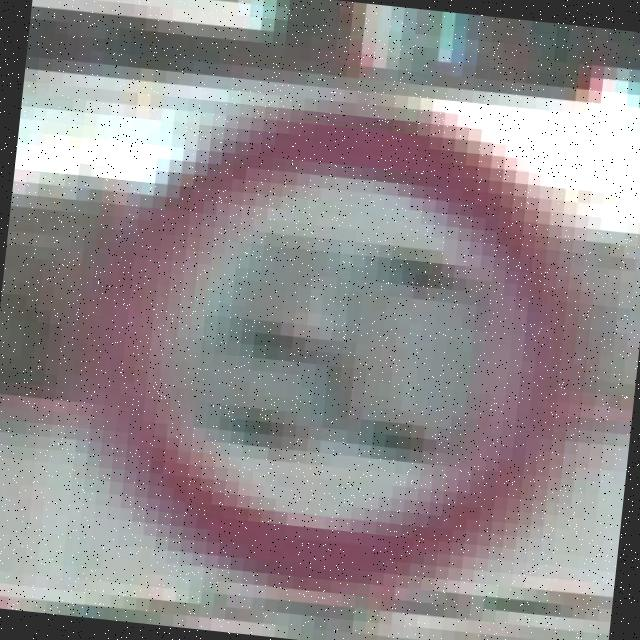Ograniczenie predkosci do 60: (19, 33, 640, 637)
